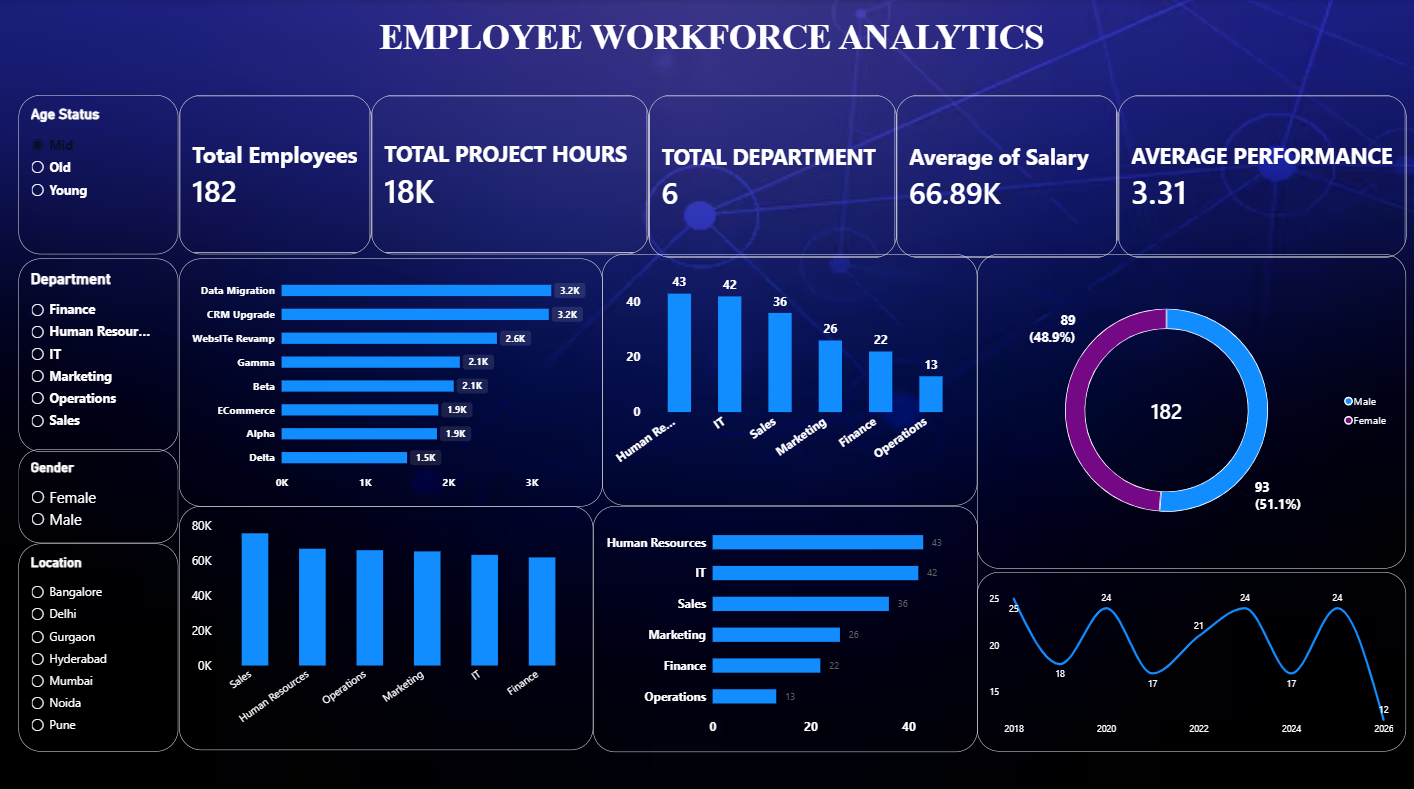

The page's visual inventory and layout, read from the dashboard file:
{"tool":"powerbi","page":{"name":"Page 1","canvas":[1920,1080],"ordinal":0},"visuals":[{"type":"cardVisual","title":"TOTAL DEPARTMENTS","fields":{"Data":["clean_data.TOTAL DEPARTMENT"]},"box":[877.5,130,335,220],"z":0},{"type":"cardVisual","title":"AVERAGE SALARY","fields":{"Data":["Avg(Raw_Data.Salary)"]},"box":[1212.5,130,300,220],"z":1000},{"type":"cardVisual","title":"TOTAL PROJECT HOURS","fields":{"Data":["clean_data.TOTAL PROJECT HOURS"]},"box":[502.5,130,375,215],"z":2000},{"type":"cardVisual","title":"AVERAGE PERFORMANCE","fields":{"Data":["clean_data.AVERAGE PERFORMANCE"]},"box":[1512.5,130,390,220],"z":3000},{"type":"cardVisual","title":"TOTAL EMPLOYEES","fields":{"Data":["clean_data.Total Employees"]},"box":[242.5,130,260,215],"z":4000},{"type":"clusteredBarChart","fields":{"Category":["clean_data.Department"],"Y":["CountNonNull(clean_data.Employee_ID)"]},"box":[802.5,685,520,332.5],"z":5000},{"type":"donutChart","fields":{"Category":["clean_data.Gender"],"Y":["CountNonNull(clean_data.Employee_ID)"]},"box":[1322.5,345,580,425],"z":6000},{"type":"lineChart","fields":{"Category":["clean_data.Joining_Year"],"Y":["CountNonNull(clean_data.Employee_ID)"]},"box":[1322.5,775,580,242.5],"z":7000},{"type":"columnChart","fields":{"Category":["clean_data.Department"],"Y":["Avg(clean_data.Salary)"]},"box":[242.5,685,560,330],"z":8000},{"type":"columnChart","fields":{"Category":["clean_data.Department"],"Y":["CountNonNull(clean_data.Performance_Category)"]},"box":[815,345,507.5,340],"z":9000},{"type":"listSlicer","fields":{"Values":["clean_data.Department"]},"box":[27.3,349.8,215.8,261.2],"z":10000},{"type":"listSlicer","fields":{"Values":["clean_data.Gender"]},"box":[27.3,608.7,215.8,127.2],"z":11000},{"type":"listSlicer","fields":{"Values":["clean_data.Location"]},"box":[27.3,735.9,215.8,281.6],"z":12000},{"type":"clusteredBarChart","fields":{"Category":["clean_data.Project"],"Y":["Sum(clean_data.Project_Hours)"]},"box":[242.5,350,572.5,335],"z":13000},{"type":"textbox","box":[27.3,25,1873.8,104.5],"z":14000},{"type":"listSlicer","fields":{"Values":["clean_data.Age Status"]},"box":[27,130,216,215],"z":15000}]}

Visuals, with their boxes in screenshot pixels (x1, y1, x2, y2), scaled from the page's 1920x1080 canvas onto the 1414x789 screenshot:
"TOTAL DEPARTMENTS" cardVisual: pyautogui.locateOnScreen(646, 95, 893, 256)
"AVERAGE SALARY" cardVisual: pyautogui.locateOnScreen(893, 95, 1114, 256)
"TOTAL PROJECT HOURS" cardVisual: pyautogui.locateOnScreen(370, 95, 646, 252)
"AVERAGE PERFORMANCE" cardVisual: pyautogui.locateOnScreen(1114, 95, 1401, 256)
"TOTAL EMPLOYEES" cardVisual: pyautogui.locateOnScreen(179, 95, 370, 252)
clusteredBarChart - clean_data.Department x CountNonNull(clean_data.Employee_ID): pyautogui.locateOnScreen(591, 500, 974, 743)
donutChart - clean_data.Gender x CountNonNull(clean_data.Employee_ID): pyautogui.locateOnScreen(974, 252, 1401, 563)
lineChart - clean_data.Joining_Year x CountNonNull(clean_data.Employee_ID): pyautogui.locateOnScreen(974, 566, 1401, 743)
columnChart - clean_data.Department x Avg(clean_data.Salary): pyautogui.locateOnScreen(179, 500, 591, 742)
columnChart - clean_data.Department x CountNonNull(clean_data.Performance_Category): pyautogui.locateOnScreen(600, 252, 974, 500)
listSlicer - clean_data.Department: pyautogui.locateOnScreen(20, 256, 179, 446)
listSlicer - clean_data.Gender: pyautogui.locateOnScreen(20, 445, 179, 538)
listSlicer - clean_data.Location: pyautogui.locateOnScreen(20, 538, 179, 743)
clusteredBarChart - clean_data.Project x Sum(clean_data.Project_Hours): pyautogui.locateOnScreen(179, 256, 600, 500)
textbox: pyautogui.locateOnScreen(20, 18, 1400, 95)
listSlicer - clean_data.Age Status: pyautogui.locateOnScreen(20, 95, 179, 252)
